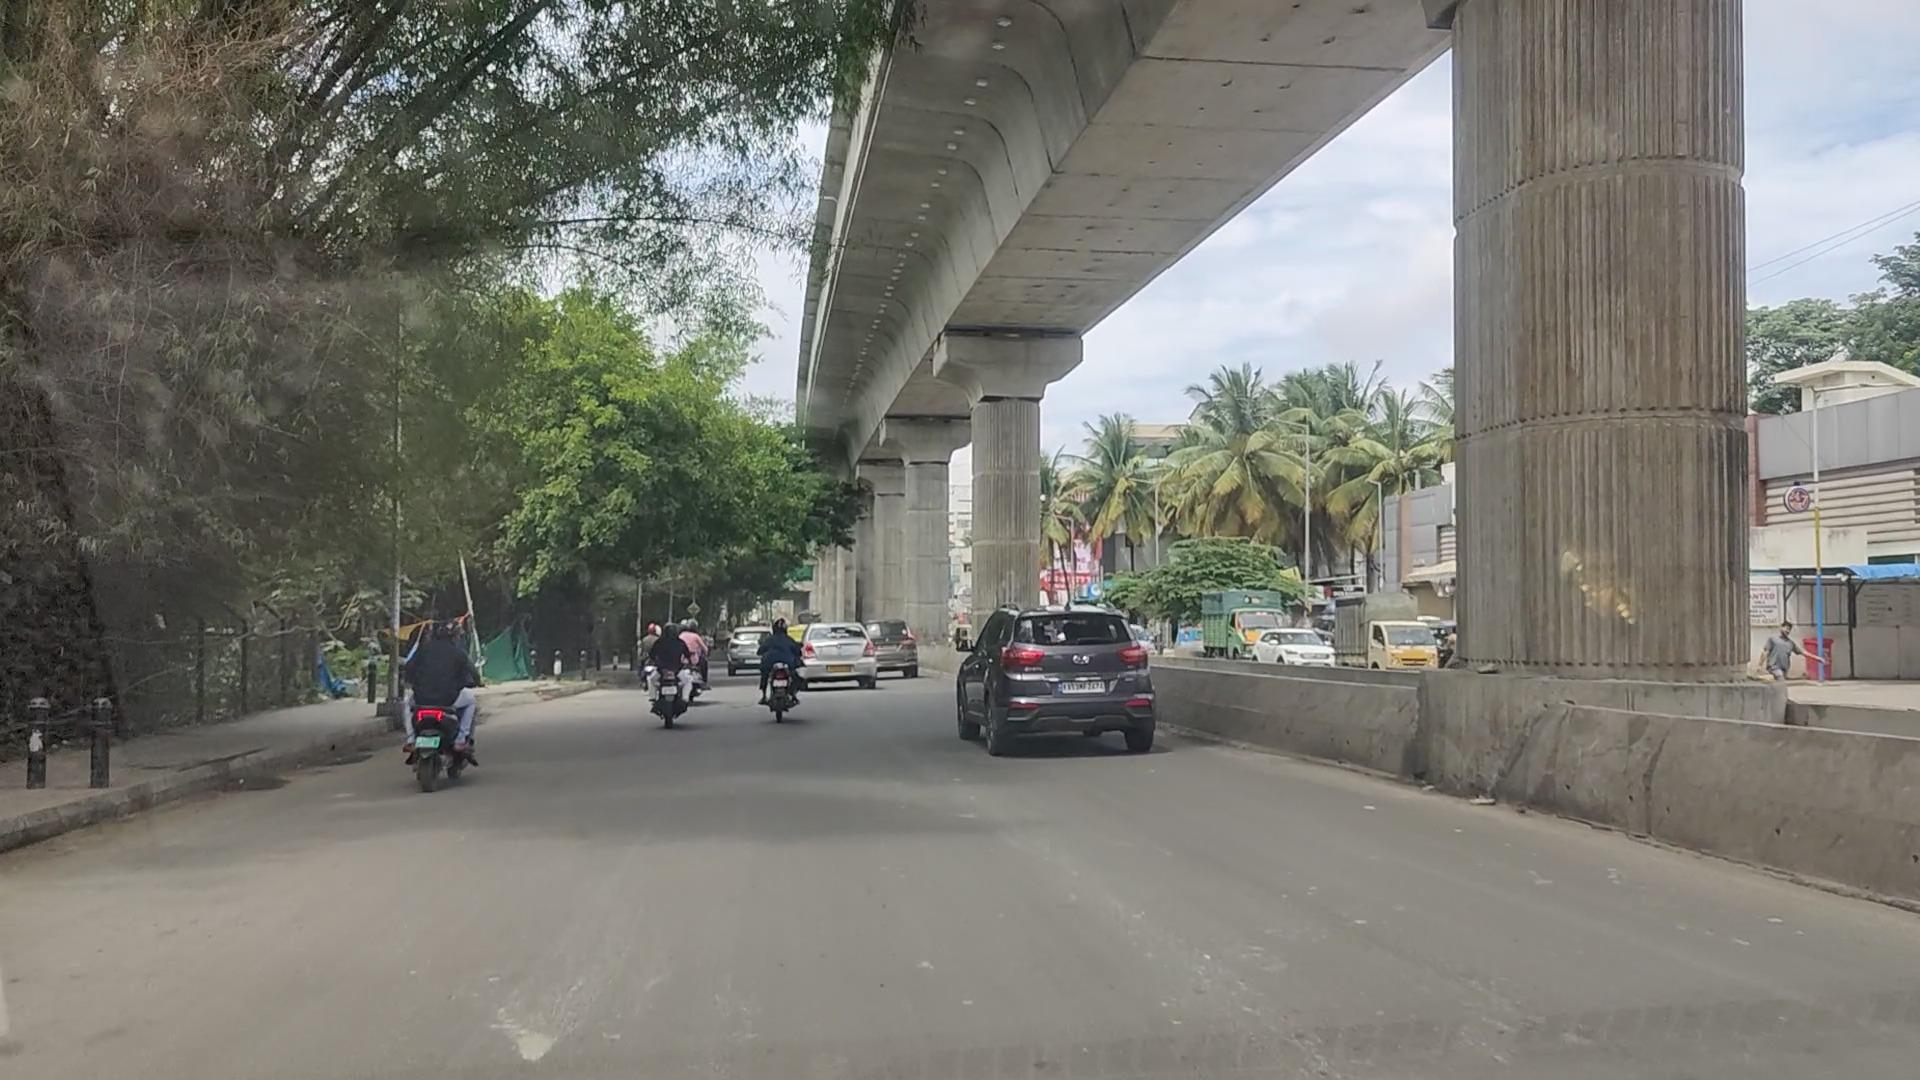LMV: (957, 592, 1162, 761), (393, 589, 484, 814), (758, 616, 820, 738), (645, 621, 691, 741)
